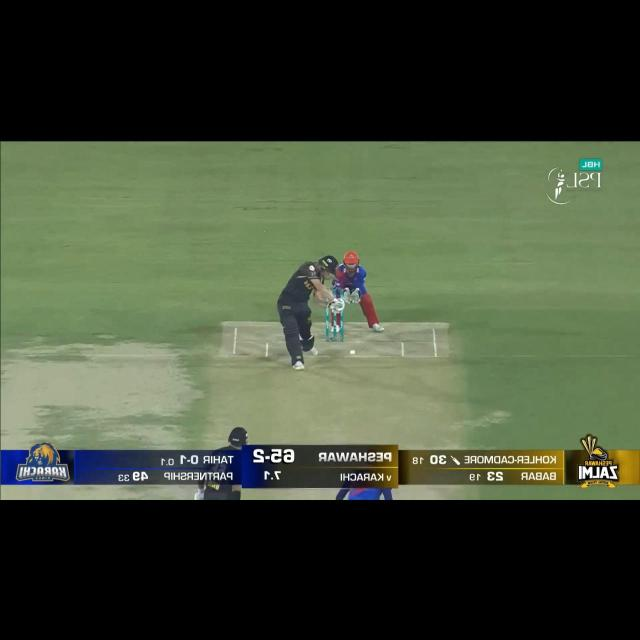bat: (332, 302, 341, 312)
